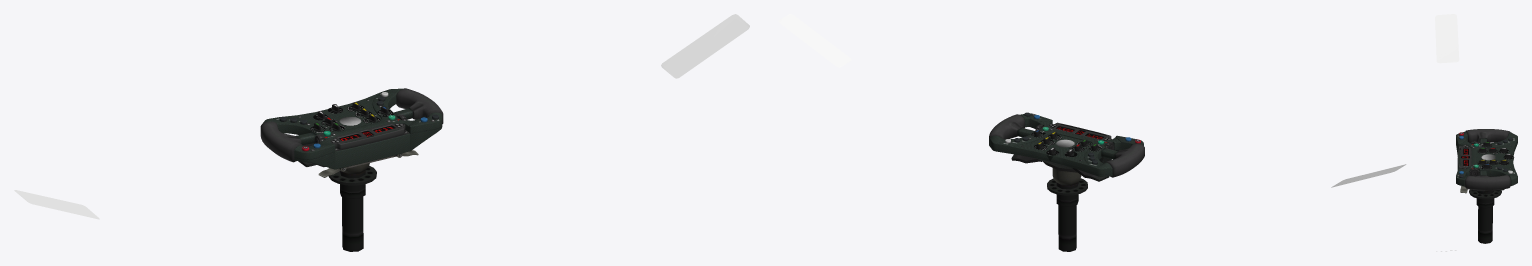
Rendered from Wheel.obj.
3 views of the same model, side by side, from view 1: azimuth 30°, elevation 25°; view 2: azimuth 150°, elevation 25°; view 3: azimuth 270°, elevation 25° (orthographic). The views are drawn at different scales.
Visible parts, largest first — view 1: object__11, object__1, object__9, object__0; view 2: object__11, object__1, object__9, object__0; view 3: object__11, object__0, object__9.
Boxes of the visible parts, x1,y1,x2,y2 form: object__11: [260, 88, 443, 251]; object__1: [661, 14, 749, 78]; object__9: [330, 123, 408, 151]; object__0: [14, 190, 99, 219]; object__11: [989, 112, 1144, 251]; object__1: [778, 14, 851, 67]; object__9: [1048, 122, 1111, 140]; object__0: [1331, 164, 1406, 187]; object__11: [1456, 129, 1517, 243]; object__0: [1435, 14, 1459, 63]; object__9: [1458, 144, 1471, 168].
Size of what is drawn, in the model's own units: 1.28 by 0.2736 by 0.1898.
6 materials, 5 textured.
